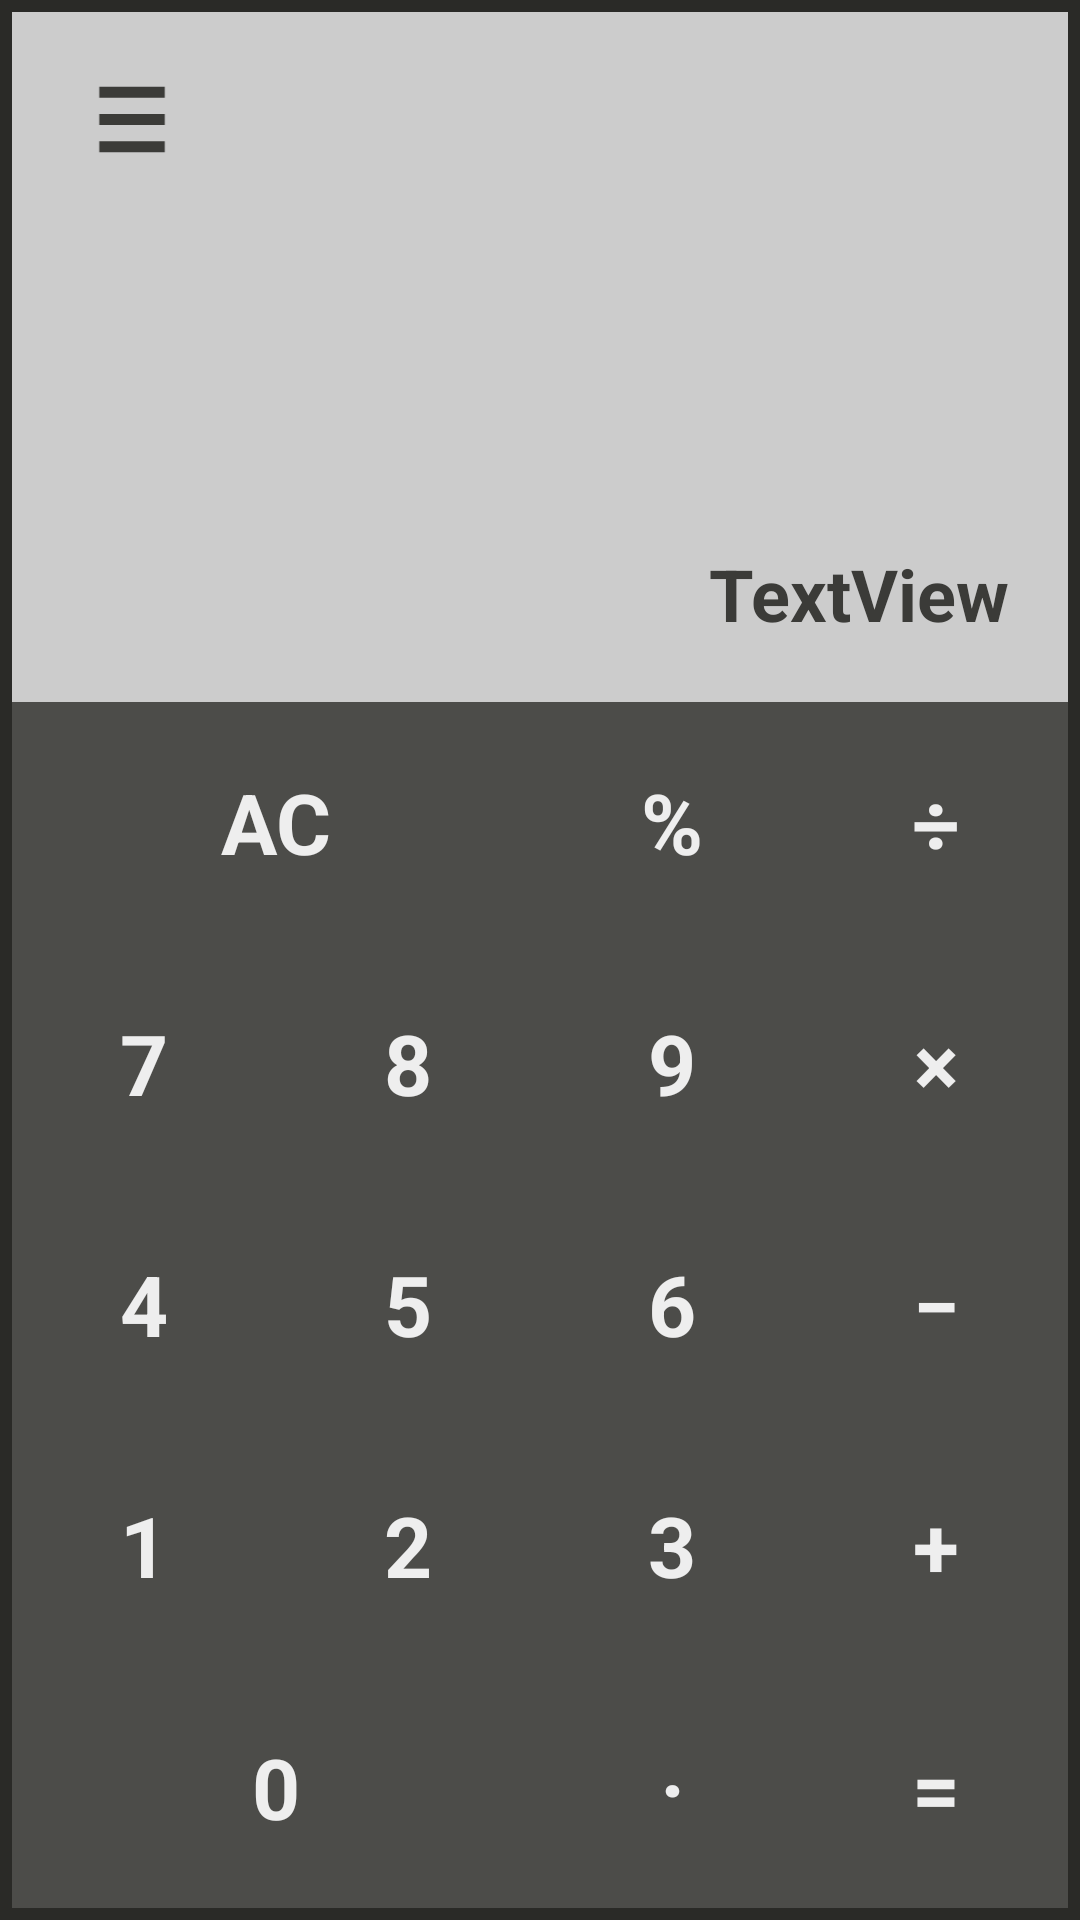

Icon click points for this 1080px×1920px phone screenshot, format (x=x, y=y):
Menu icon: (x=132, y=119)
